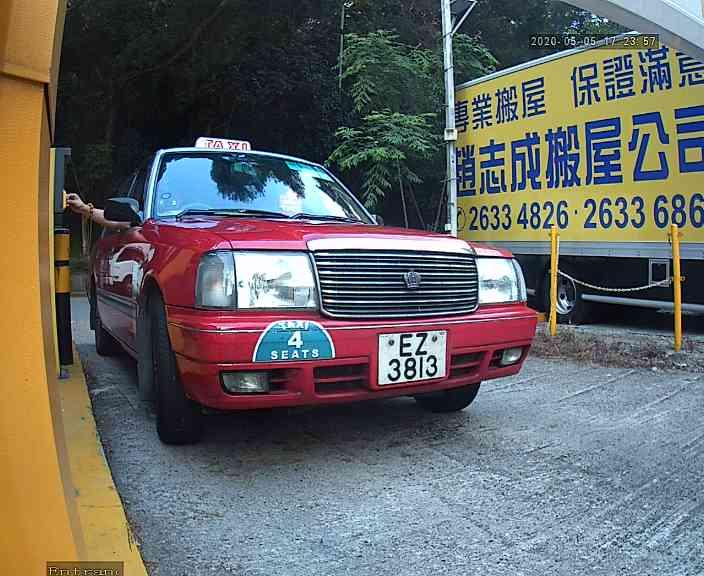Car: (59, 127, 574, 476)
License Plate: (365, 327, 453, 386)
